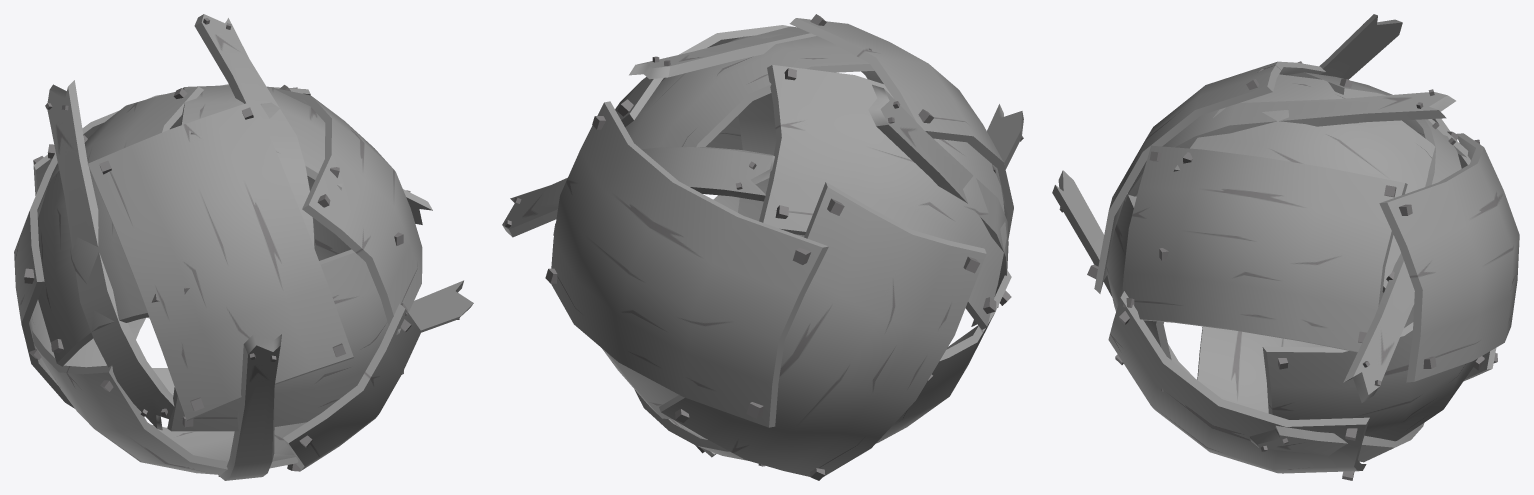
File: MetalBall.FBX
The picture shows the model from 3 angles, left to right: view 1: azimuth 30°, elevation 25°; view 2: azimuth 150°, elevation 25°; view 3: azimuth 270°, elevation 25°; orthographic projection. The views are drawn at different scales.
Parts seen in each view (by area): view 1: Box008; view 2: Box008; view 3: Box008.
Part boxes in pixels (x1,y1,x2,y2): Box008: [14, 14, 473, 480]; Box008: [502, 14, 1023, 480]; Box008: [1052, 14, 1519, 480].
Size of the model in its own units: 71.02 by 63.31 by 69.27.
